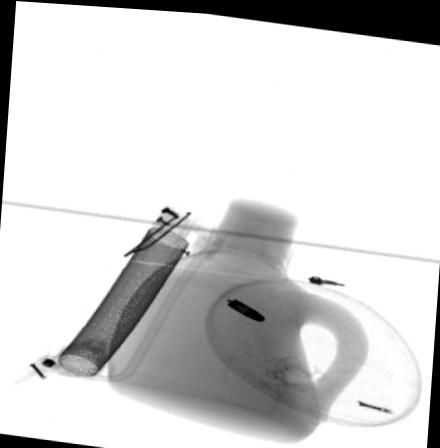Bullet: (225, 292, 266, 318)
